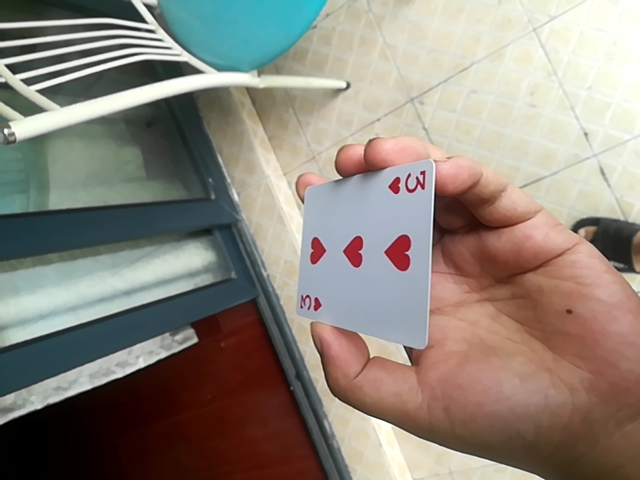hx 3: (292, 152, 435, 356)
